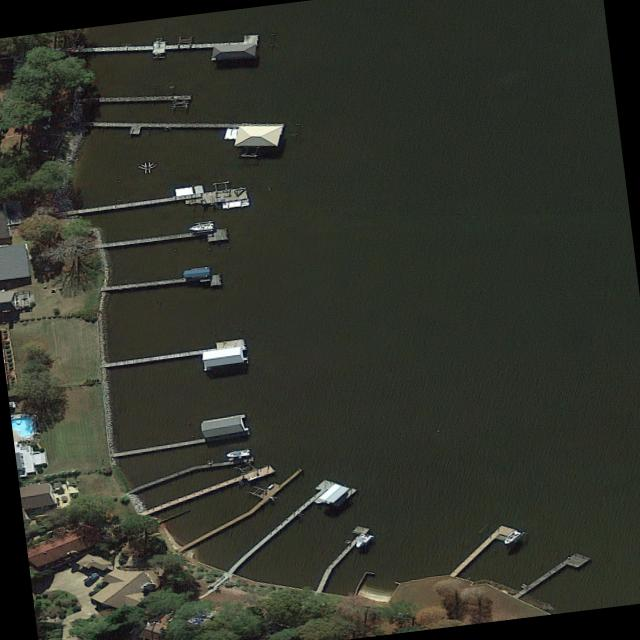ship: (500, 529, 521, 543), (352, 532, 371, 547), (224, 448, 249, 457), (186, 222, 212, 230)
small-vehicle: (80, 570, 101, 583)
